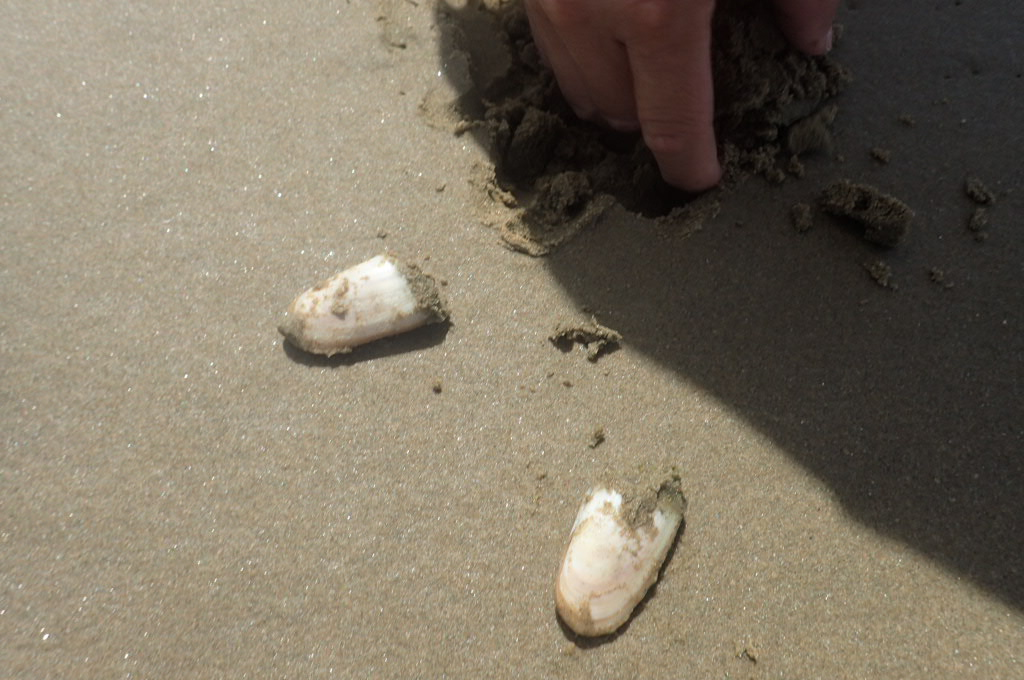tuatua: (556, 473, 690, 646), (276, 252, 457, 361)
